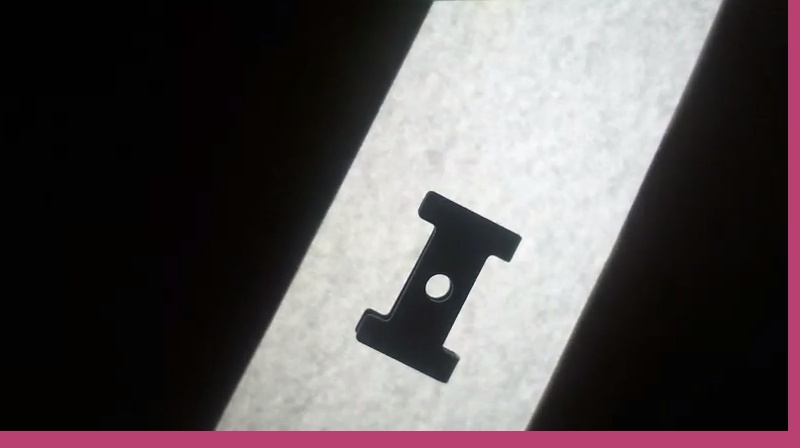O002: (352, 187, 524, 383)
